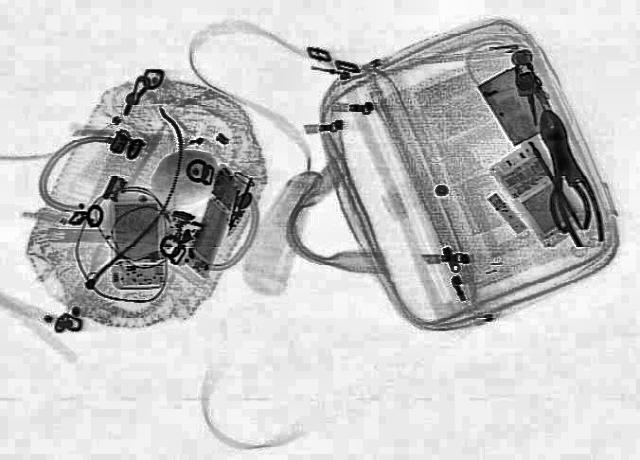Pliers: (526, 107, 608, 246), (538, 144, 592, 230)
